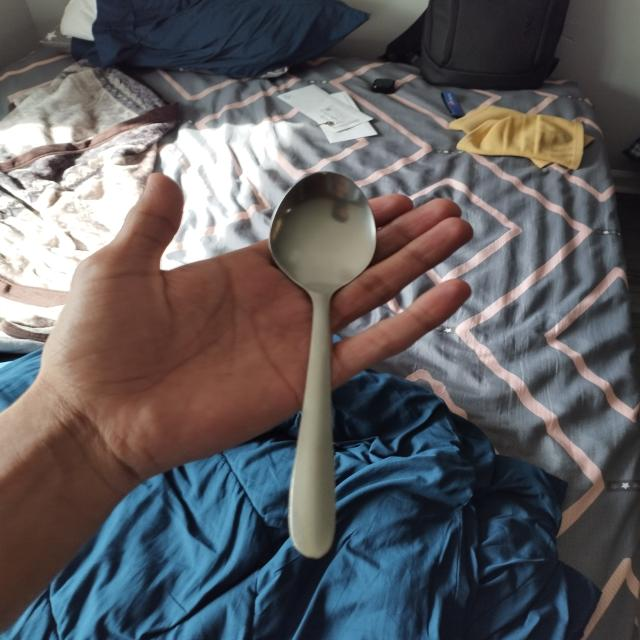Spoon: (259, 159, 388, 569)
